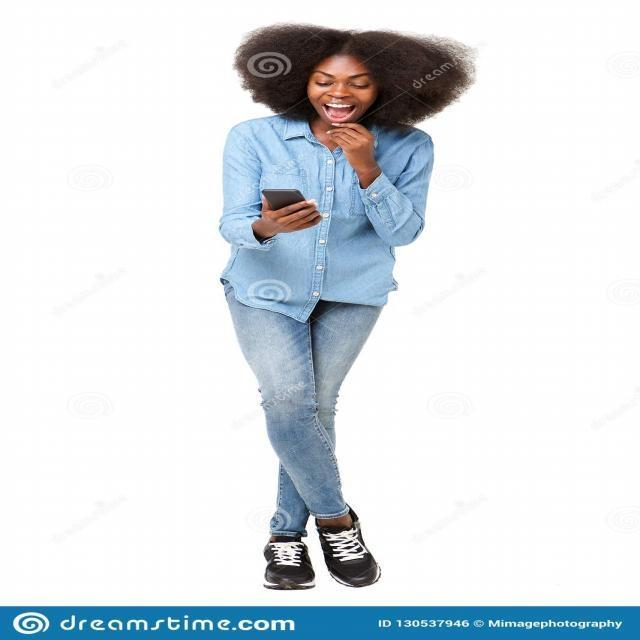no_apron: (328, 119, 388, 174), (253, 196, 321, 236)
